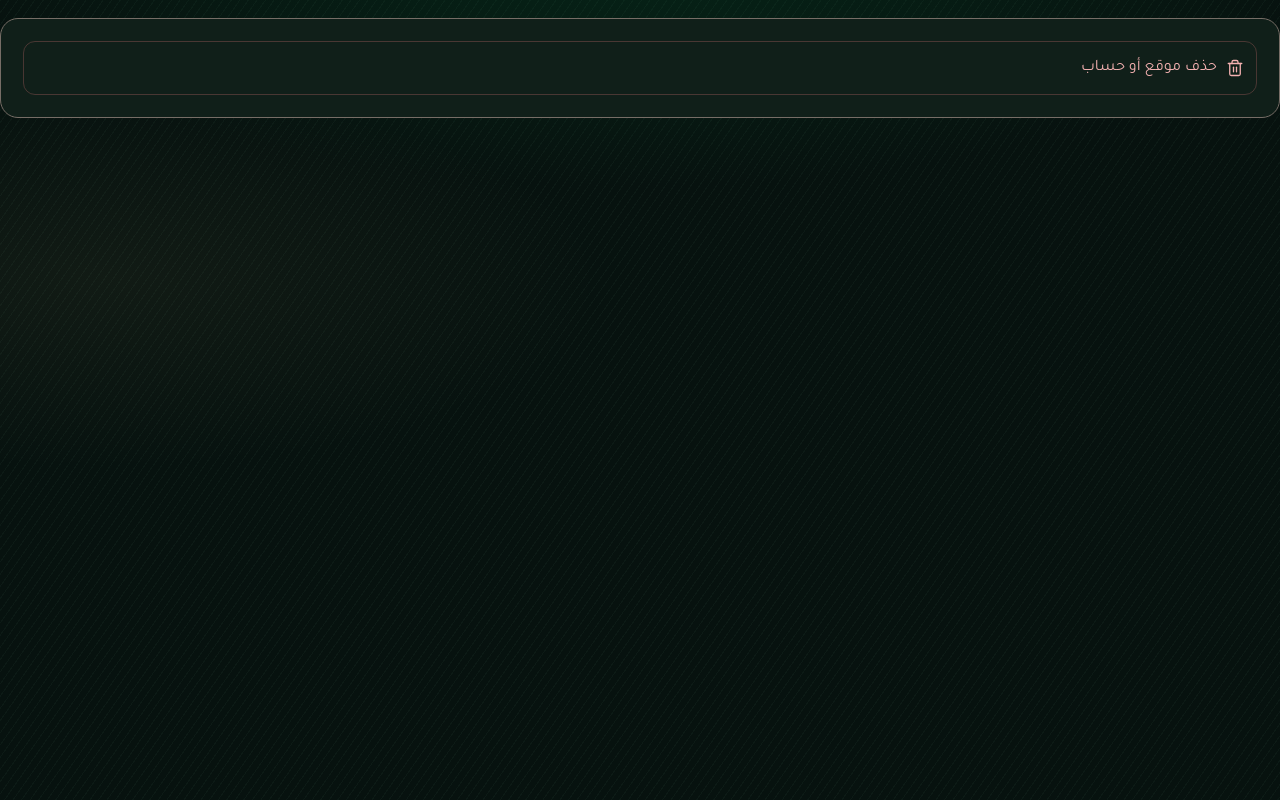
one-button owner deletion — local DOM and mocked API › requires a reason and has three exact scope choices, without a reviewed ID or second confirmation
Click the button "حذف موقع أو حساب": (1149, 68) left=23, top=41, right=1257, bottom=95
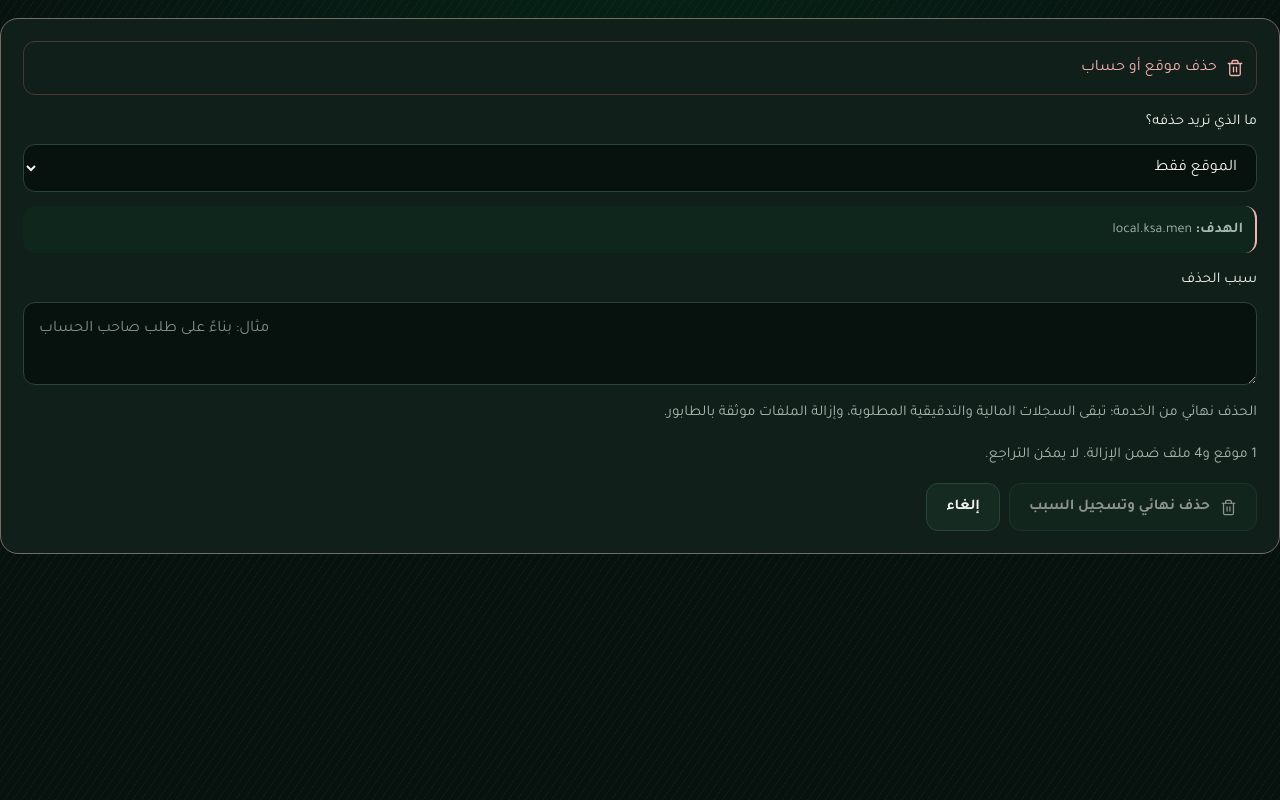
expect the button "حذف نهائي وتسجيل السبب" is disabled: met, box left=1009, top=483, right=1257, bottom=532
